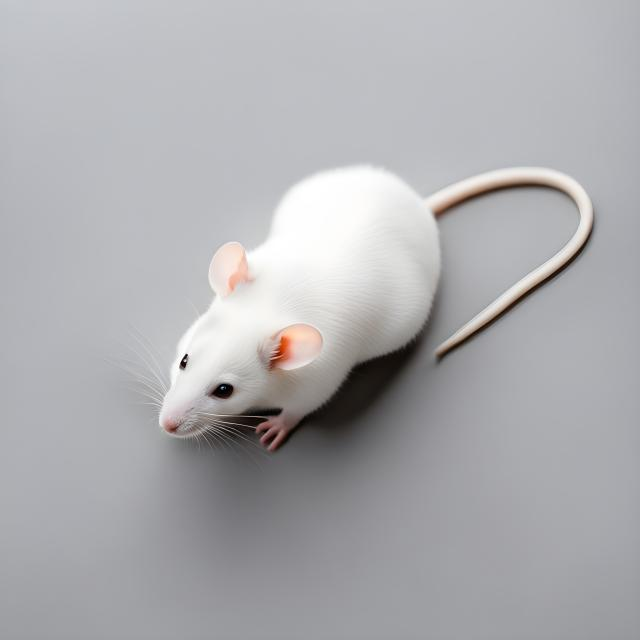rodent: (149, 152, 452, 464)
